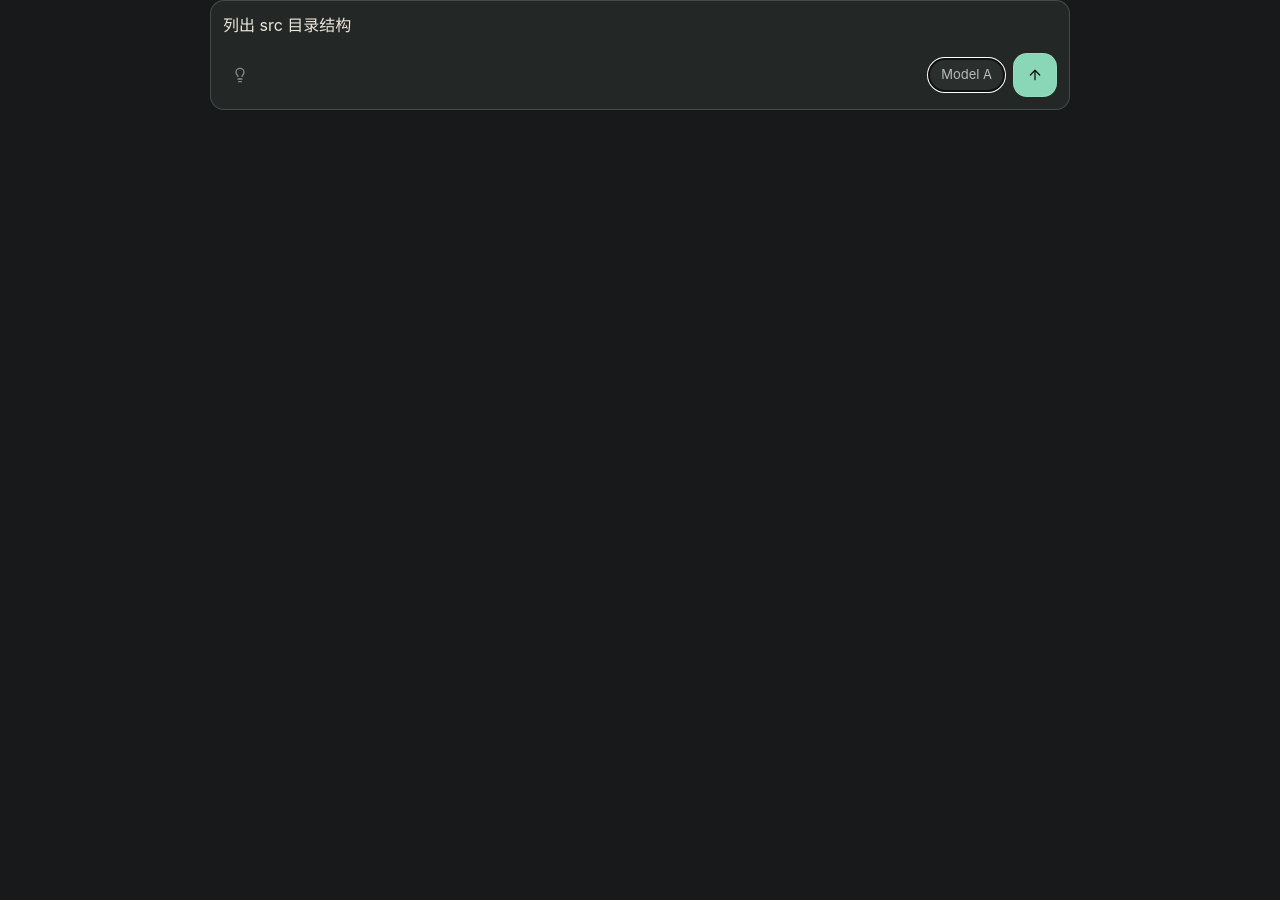
Test: ComposerControls 只读态 › 模型菜单可用方向键选择，Escape 关闭且不发送
Click the button "Model A".
click(967, 75)  # box [928,58,1005,92]
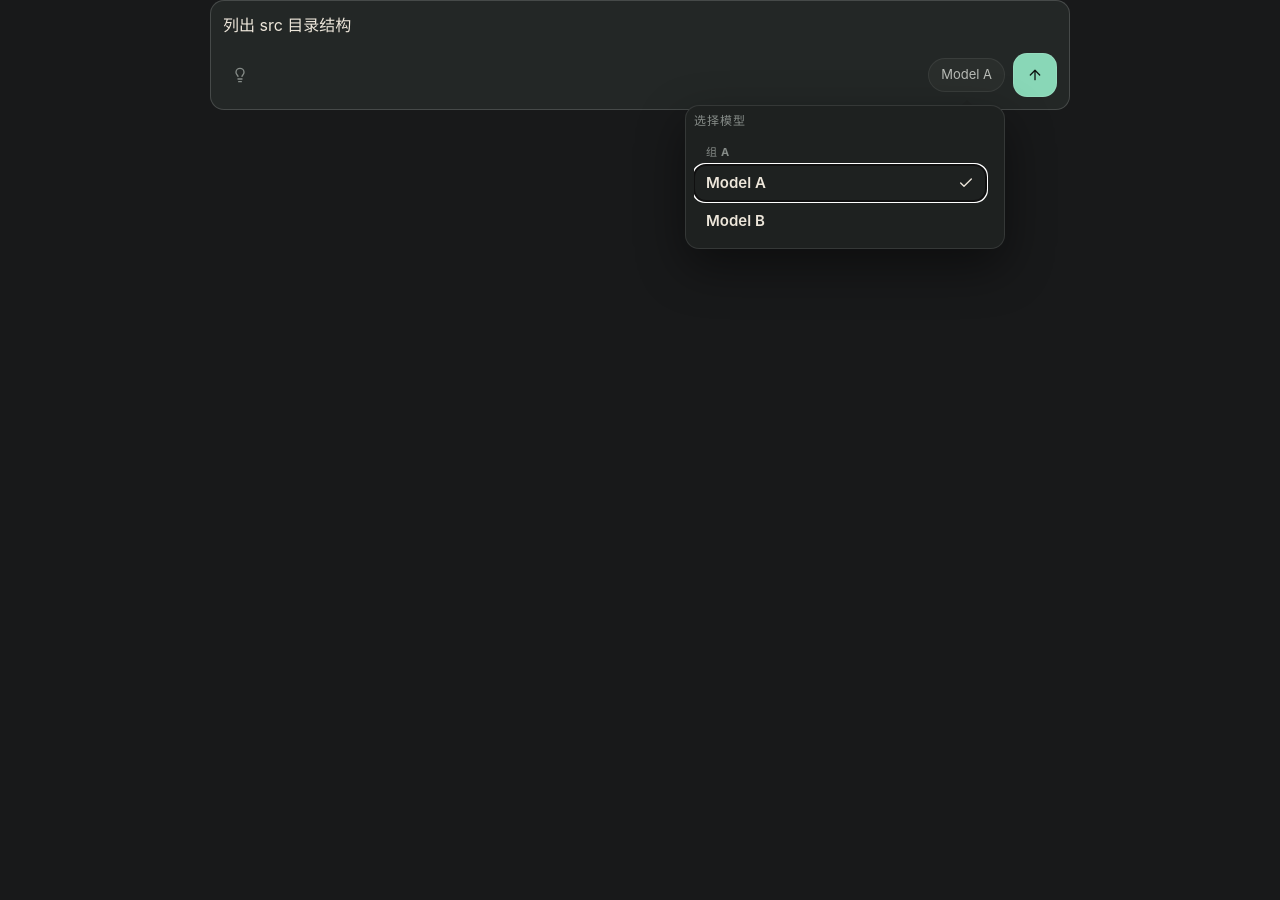
Press ArrowDown in the list named "模型列表", box [694,136,996,240]
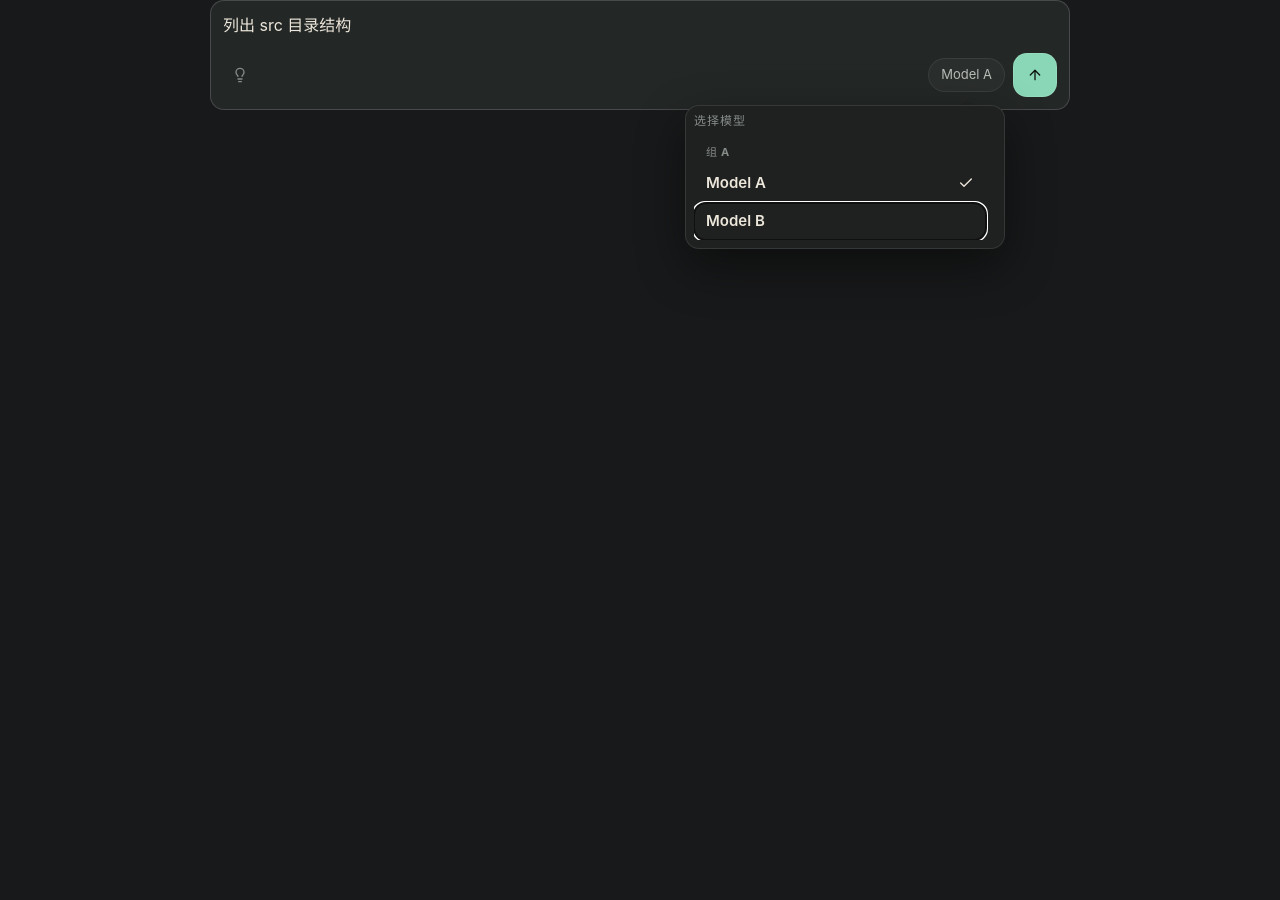
Press Enter in the list named "模型列表", box [694,136,996,240]
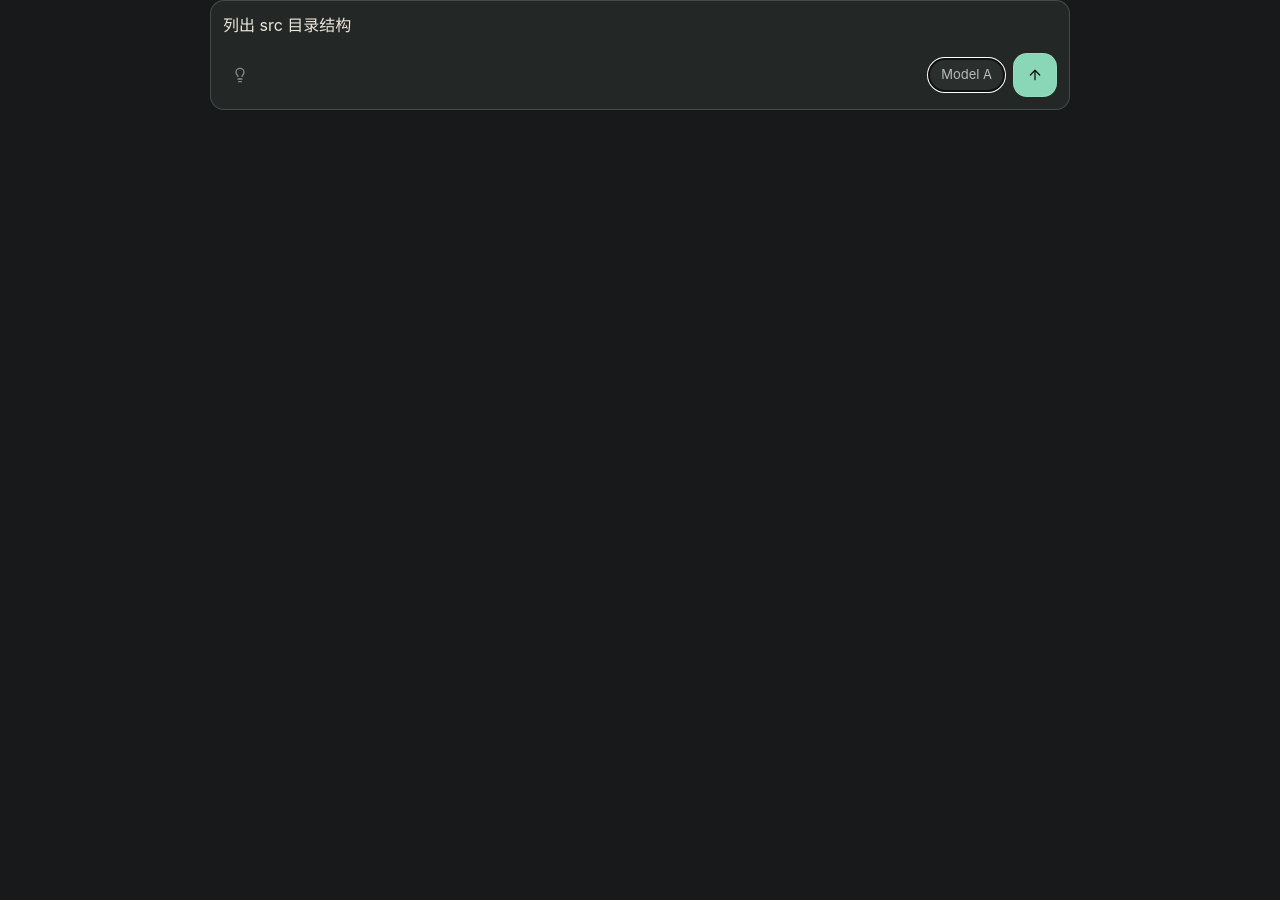
Expected: the list "模型列表" is gone
